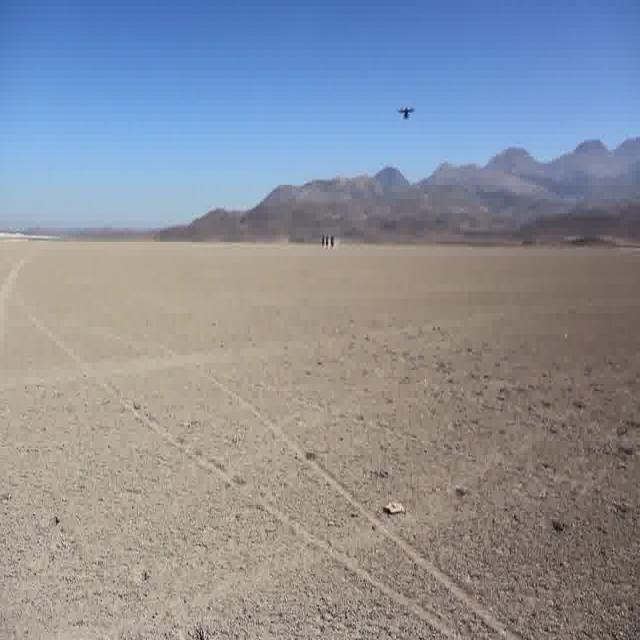drone: (395, 100, 416, 122)
